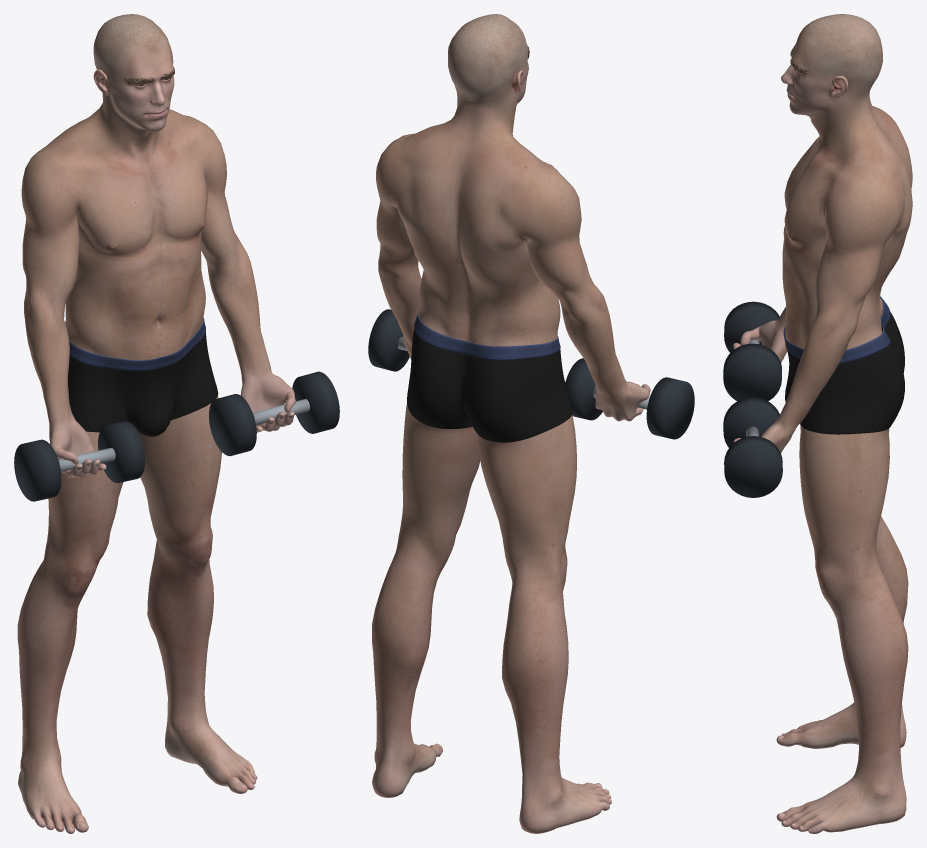
Rendered from athlete_curl.glb.
3 renders of one model, left to right at view 1: azimuth 30°, elevation 25°; view 2: azimuth 150°, elevation 25°; view 3: azimuth 270°, elevation 25°, orthographic.
Visible parts, largest first — view 1: Web Man, Web Boxers, Web Native dumbbell R, Web Native dumbbell L; view 2: Web Man, Web Boxers, Web Native dumbbell R, Web Native dumbbell L; view 3: Web Man, Web Boxers, Web Native dumbbell L, Web Native dumbbell R.
Boxes of the visible parts, x1,y1,x2,y2 form: Web Man: [17, 14, 295, 833]; Web Boxers: [65, 317, 218, 436]; Web Native dumbbell R: [14, 421, 145, 501]; Web Native dumbbell L: [209, 371, 339, 456]; Web Man: [372, 14, 650, 833]; Web Boxers: [407, 313, 572, 442]; Web Native dumbbell R: [565, 358, 694, 439]; Web Native dumbbell L: [368, 309, 409, 371]; Web Man: [733, 14, 912, 833]; Web Boxers: [783, 296, 904, 434]; Web Native dumbbell L: [723, 397, 782, 497]; Web Native dumbbell R: [723, 301, 781, 401].
Size of what is drawn, in the model's own units: 0.7392 by 1.84 by 0.4116.
9 materials, 6 textured.
